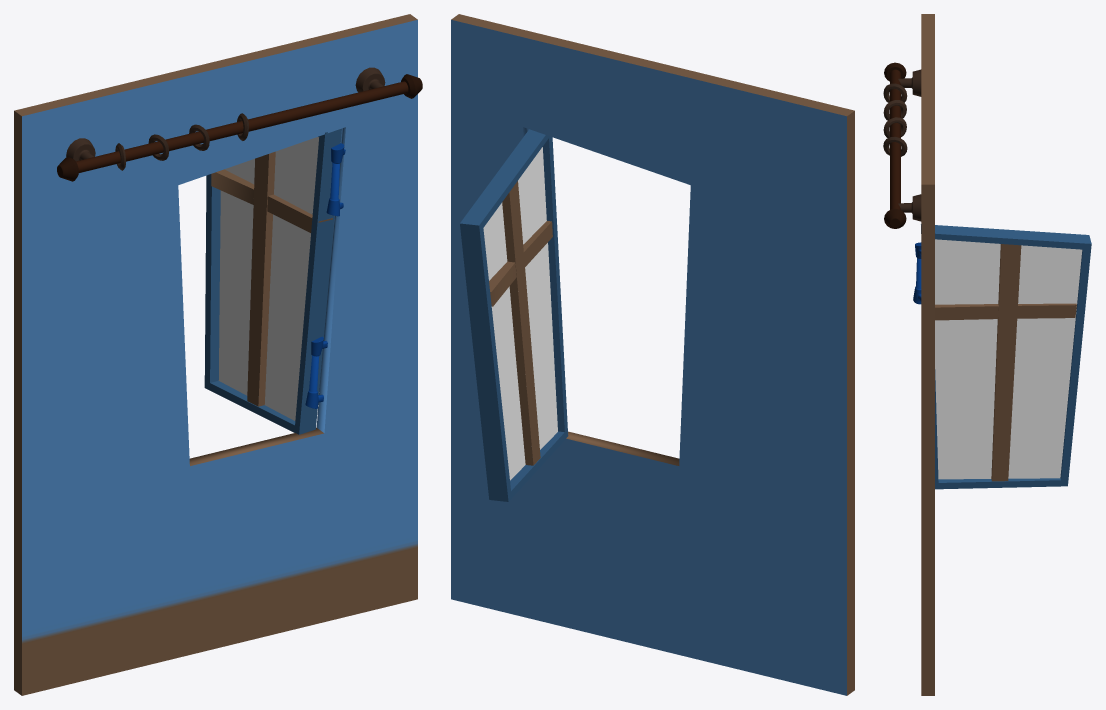
The model's file is pencere-açık.fbx.
3 renders of one model, left to right at view 1: azimuth 30°, elevation 25°; view 2: azimuth 150°, elevation 25°; view 3: azimuth 270°, elevation 25°, orthographic. The views are drawn at different scales.
Visible parts, largest first — view 1: Duvar, pencere; view 2: Duvar, pencere; view 3: pencere, Duvar.
Part boxes in pixels (x1,y1,x2,y2): Duvar: [14, 14, 417, 695]; pencere: [57, 67, 422, 434]; Duvar: [451, 14, 854, 695]; pencere: [460, 129, 568, 501]; pencere: [883, 62, 1091, 489]; Duvar: [921, 14, 934, 695].
Bounding box in the file's own units: 1502 × 2100 × 776.
4 materials, 3 textured.
